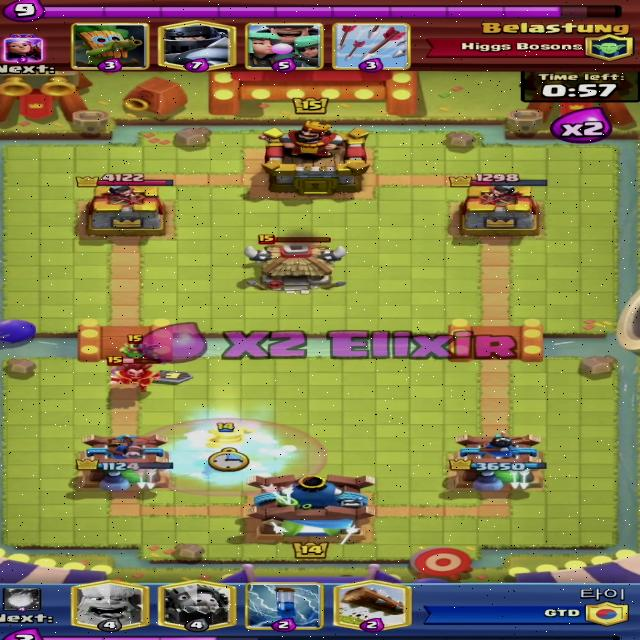Enemy-ElectroWizard: (105, 356, 163, 392)
Enemy-GoblinHut: (242, 234, 347, 295)
Enemy-SpearGoblin: (117, 334, 165, 366)
Player-IceWizard: (202, 422, 255, 449)
